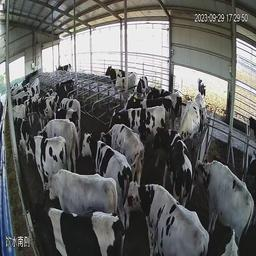cow: (120, 176, 211, 256), (30, 193, 125, 255), (196, 151, 254, 248), (44, 164, 118, 212), (95, 113, 144, 175), (77, 131, 134, 174), (109, 101, 163, 146), (166, 130, 195, 205), (36, 116, 75, 161), (23, 136, 66, 175), (170, 101, 199, 145), (60, 91, 83, 140), (8, 109, 29, 153), (194, 83, 208, 132), (37, 93, 56, 116), (105, 61, 124, 83), (138, 67, 150, 101), (57, 62, 73, 75)
